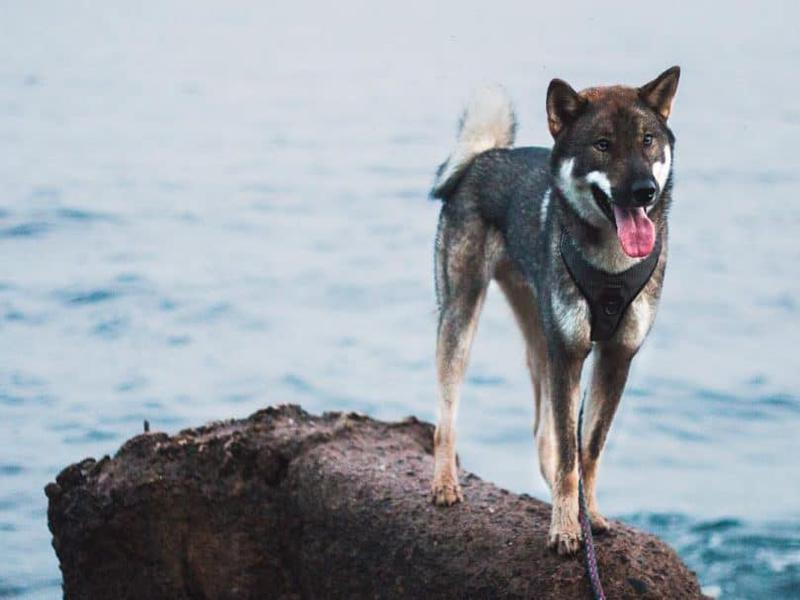dog_stand: (423, 60, 689, 558)
